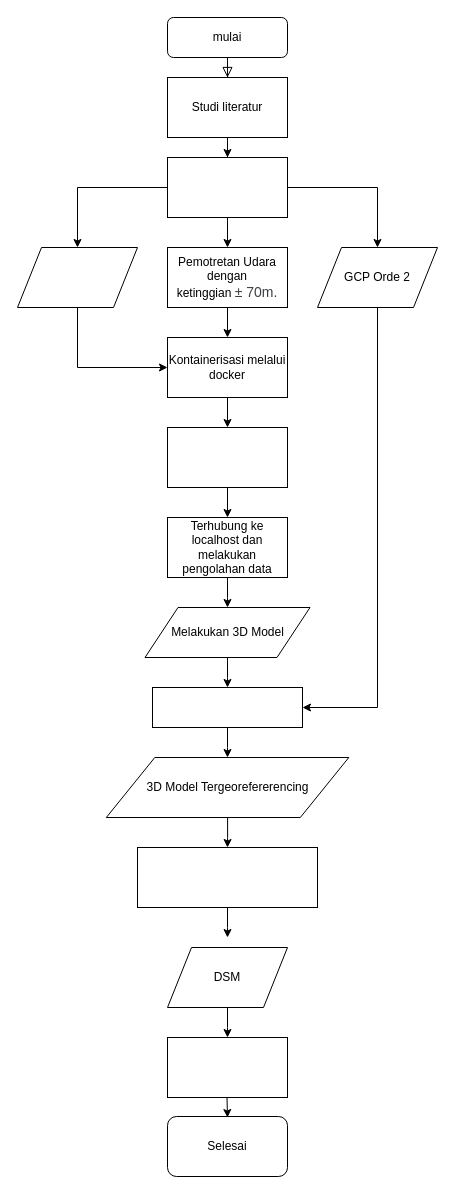
Some shapes in this 455 by 1194 pixel diagram are drawn without their labels. The box of each missing label's shape, as (x1, y1, x2, y2) in pixels:
Localhost melalui Docker-ip machine ke Web Browser: (166, 426, 288, 488)
Melakukan Georeferencing Data: (152, 686, 302, 728)
Pembentukan DSM: (136, 846, 318, 908)
Pengumpulan Data: (166, 156, 288, 218)
Server Docker: (16, 246, 138, 308)
